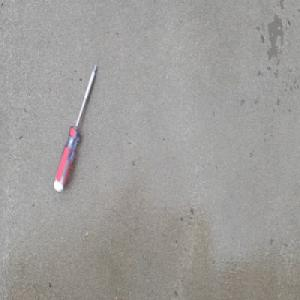Screwdriver: (51, 62, 98, 194)
